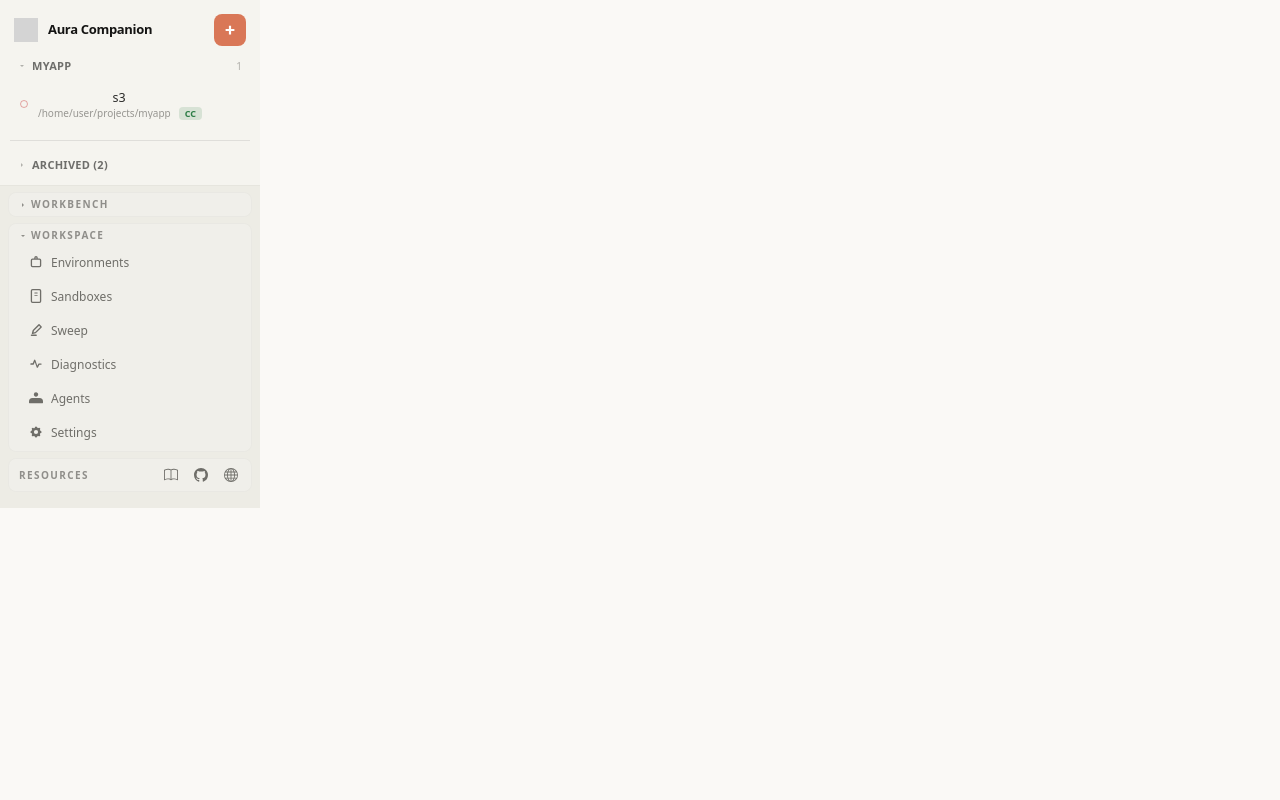
Test: Sidebar › clicking 'Delete all' shows confirmation modal for all archived sessions
Click the button "Archived (2)" at (130, 165), box [10, 153, 250, 177]
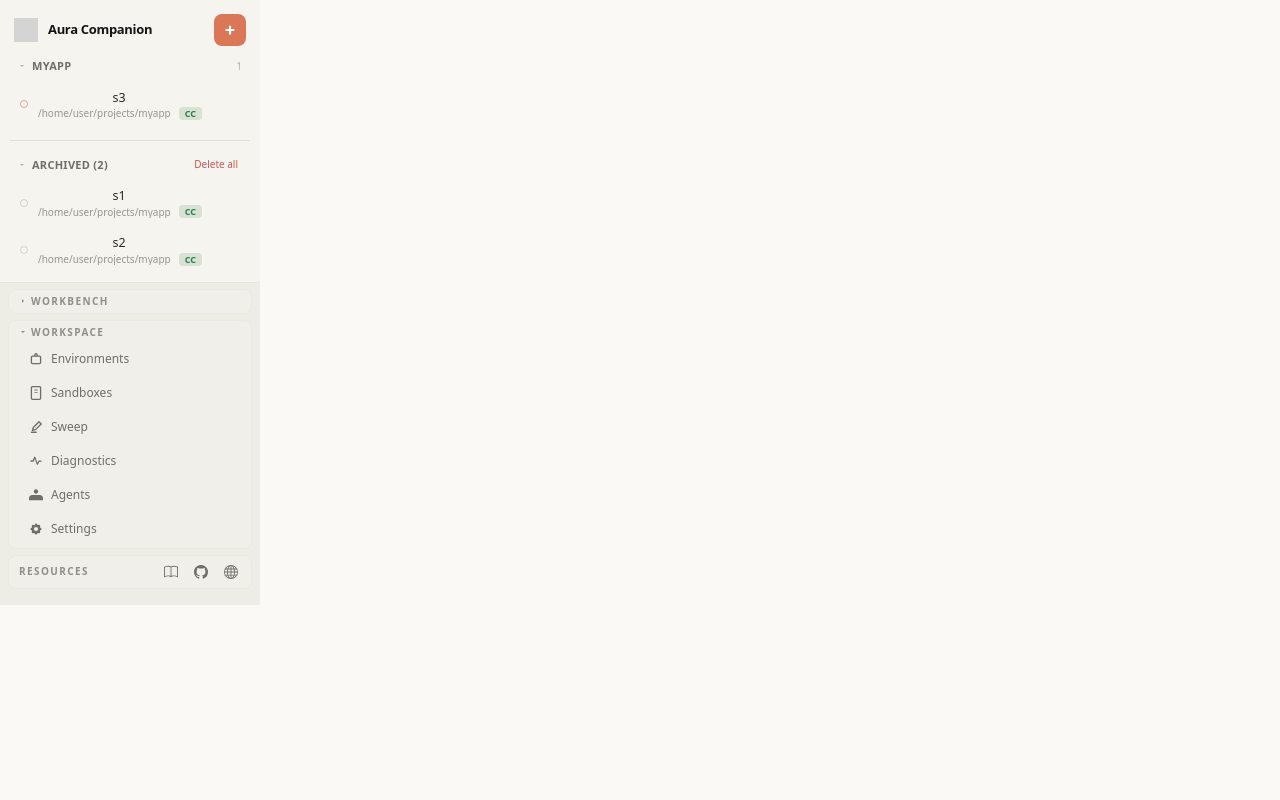
Click the button "Delete all" at (216, 165), box [186, 155, 246, 174]
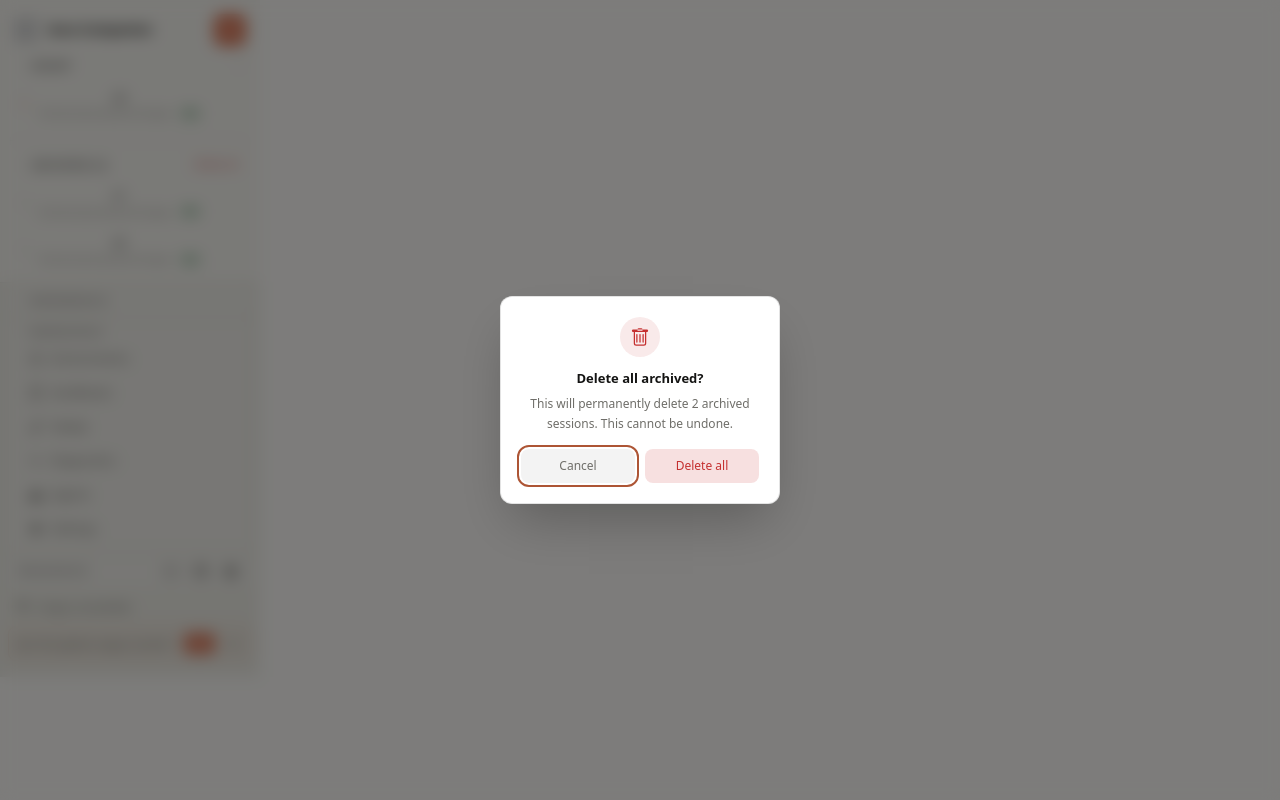
Check: the text "Delete all archived?" is shown, box [576, 369, 704, 387]
Check: the text "This will permanently delete 2 archived sessions" is shown, box [530, 395, 750, 432]
